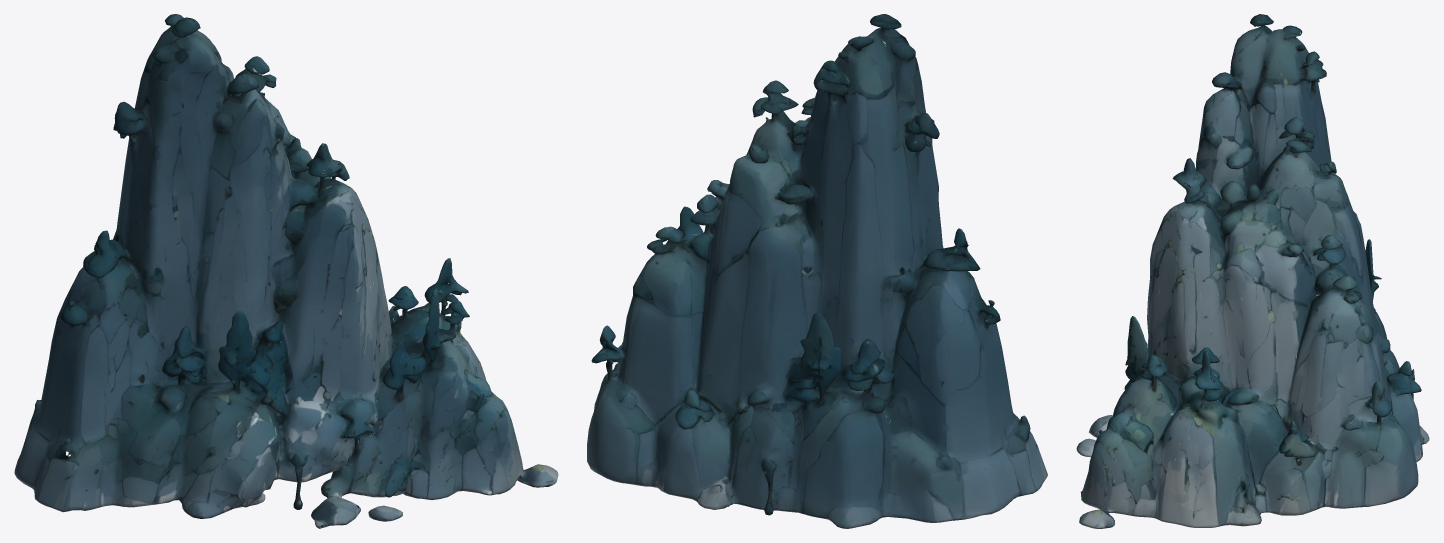
The model's file is mountain4.glb.
3 views of the same model, side by side, from view 1: azimuth 30°, elevation 25°; view 2: azimuth 150°, elevation 25°; view 3: azimuth 270°, elevation 25° (orthographic). The views are drawn at different scales.
Visible parts, largest first — view 1: lod0; view 2: lod0; view 3: lod0.
Part boxes in pixels (left/top/right/bottom): lod0: left=14, top=14, right=558, bottom=528; lod0: left=587, top=14, right=1047, bottom=528; lod0: left=1076, top=14, right=1429, bottom=528.
Size of what is drawn, in the model's own units: 0.9823 by 0.9991 by 0.8023.
1 material, 1 textured.
